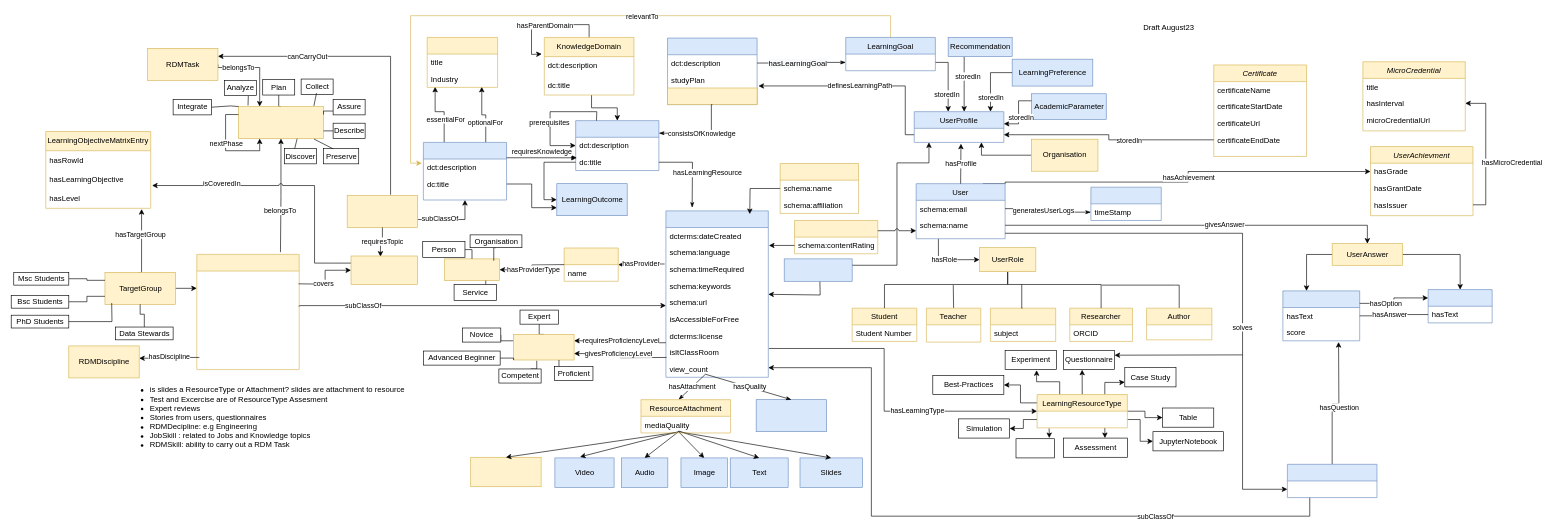
Some shapes in this 1553 by 532 pixel diagram are drawn without their labels. Each missing label, with the box of its shape:
Accessibility: (784, 258, 852, 281)
Answer: (1428, 289, 1492, 323)
Code/Script: (470, 457, 541, 487)
ContentQuality: (756, 399, 827, 432)
Contributer: (780, 163, 859, 213)
Curator: (990, 308, 1056, 341)
DataLifeCyclePhase: (238, 106, 324, 139)
EducationalResource: (665, 210, 768, 377)
Excercise: (1287, 464, 1377, 498)
Job: (427, 37, 498, 87)
KnowledgeTopic: (575, 120, 659, 171)
LearningPath: (667, 37, 757, 105)
Lecture: (1015, 438, 1054, 458)
OrderOfTopics:RDFlist: (667, 87, 757, 105)
ProficiencyLevel: (513, 334, 574, 360)
Provider: (564, 247, 618, 281)
Provider_type: (444, 258, 500, 281)
Question: (1282, 290, 1360, 341)
RatingIndicator: (794, 220, 878, 254)
RDMResource: (196, 254, 299, 370)
RDMSkill: (347, 195, 418, 228)
RDMTopic: (350, 255, 418, 284)
Skill: (423, 142, 507, 200)
UserLogs: (1090, 187, 1161, 220)
